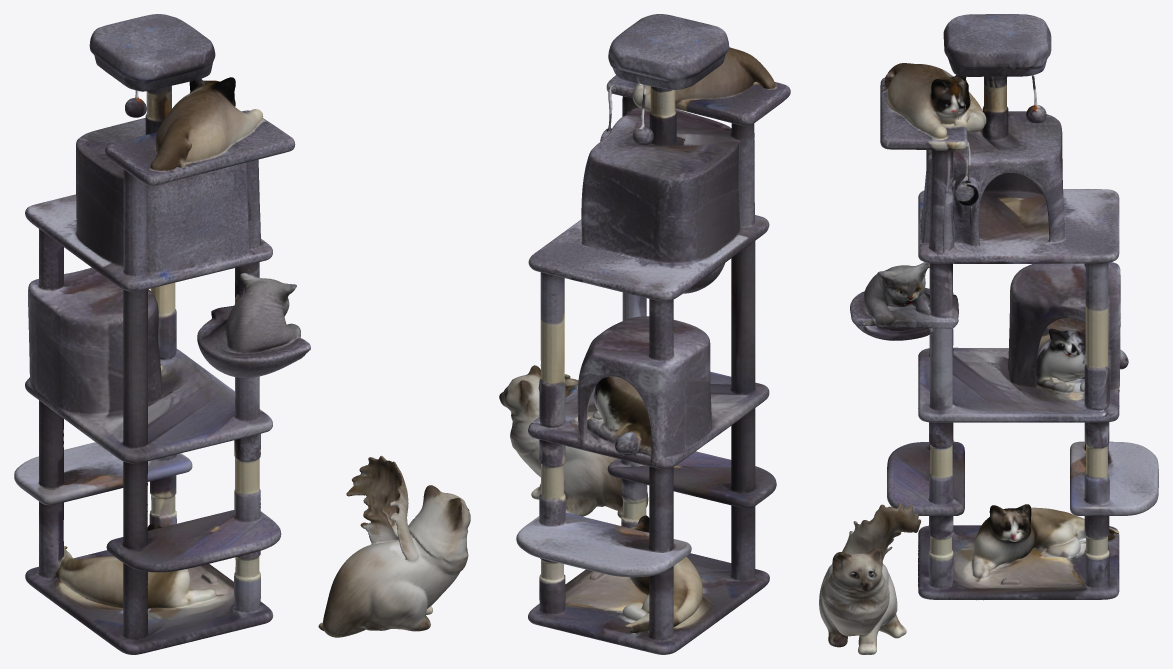
The model's file is PARQUE2.fbx.
The picture shows the model from 3 angles, left to right: view 1: azimuth 30°, elevation 25°; view 2: azimuth 150°, elevation 25°; view 3: azimuth 270°, elevation 25°; orthographic projection. The views are drawn at different scales.
Parts seen in each view (by area): view 1: tripo_node_f27dd71b; view 2: tripo_node_f27dd71b; view 3: tripo_node_f27dd71b.
Boxes of the visible parts, left/top/right/bottom form: tripo_node_f27dd71b: left=14, top=14, right=470, bottom=654; tripo_node_f27dd71b: left=499, top=14, right=790, bottom=654; tripo_node_f27dd71b: left=819, top=14, right=1158, bottom=654.
Size of the model in its own units: 56.8 by 100 by 57.79.
Materials: 1 (1 with a texture image).
